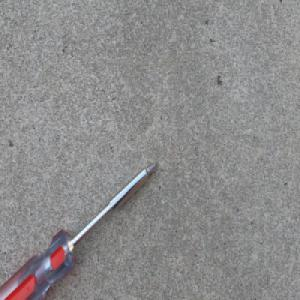Screwdriver: (0, 160, 159, 300)
